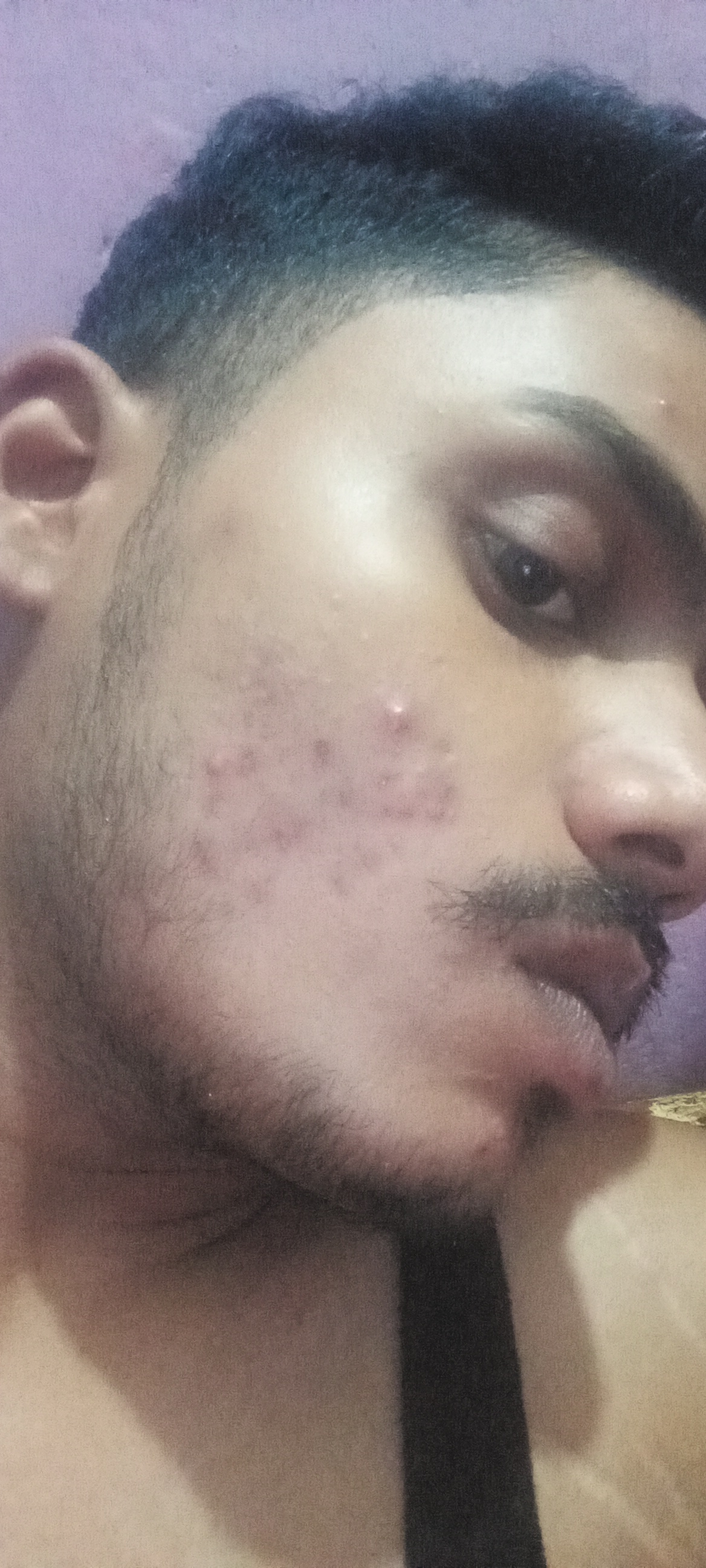nodule: (382, 695, 422, 725)
papule: (191, 744, 239, 788)
pustule: (641, 389, 675, 419)
